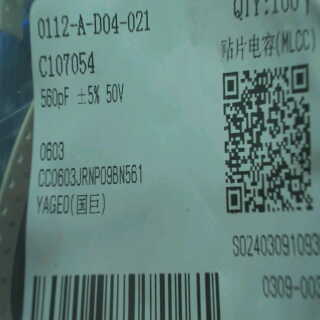560pF: (39, 84, 72, 111)
